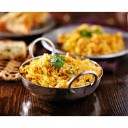briyani: (25, 55, 97, 84), (58, 26, 122, 51)
